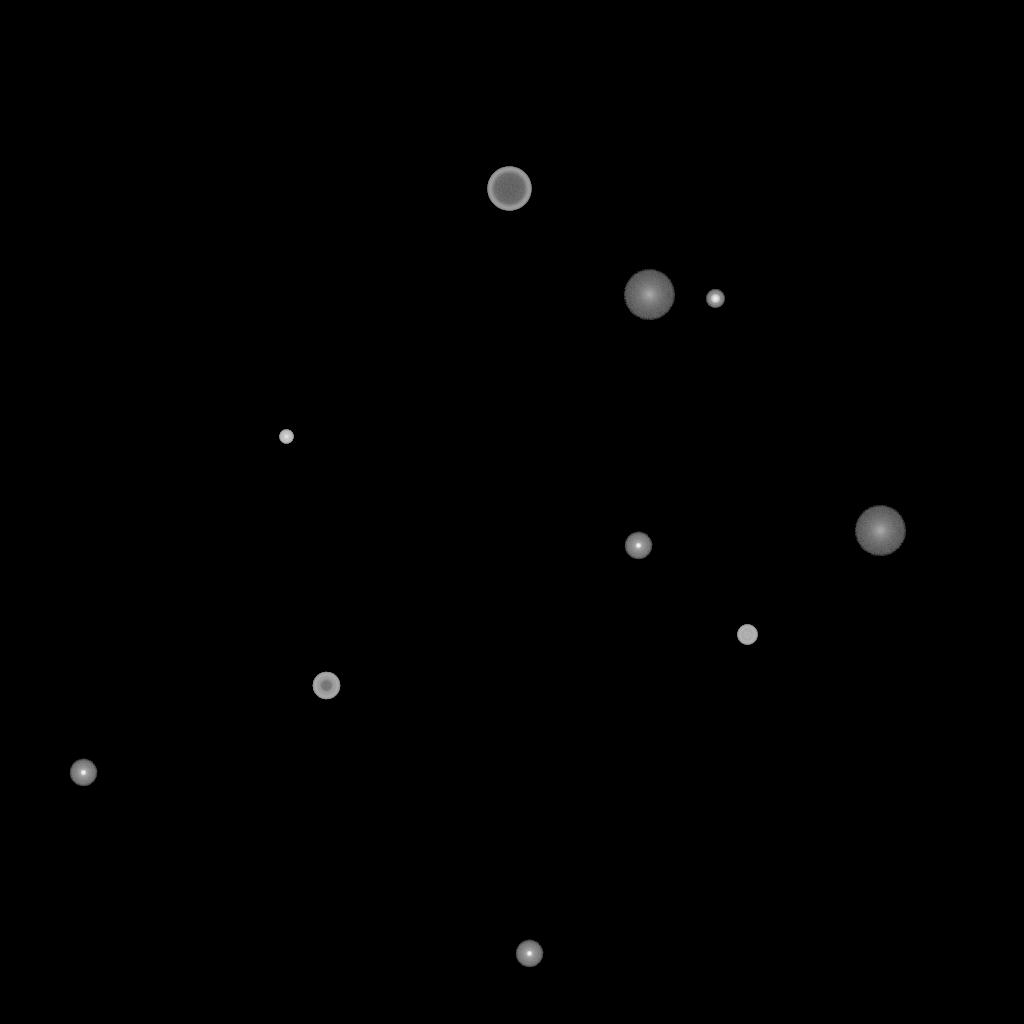depth:-10: (69, 759, 97, 787), (515, 940, 543, 968), (624, 532, 652, 560)
depth:-20: (706, 290, 724, 308)
depth:-30: (279, 430, 293, 444)
depth:-40: (737, 625, 757, 645)
depth:-50: (312, 672, 340, 700)
depth:-70: (487, 167, 531, 211)
depth:20: (854, 506, 906, 556), (623, 270, 675, 320)
